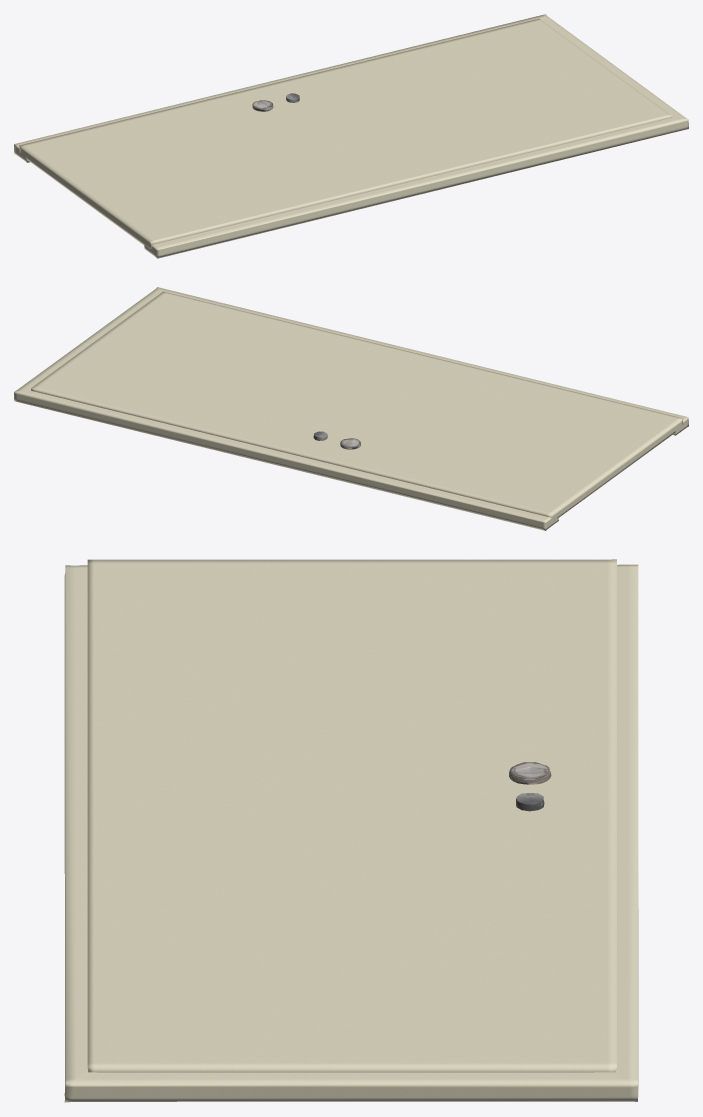
File: SM_095_Door1.fbx
3 renders of one model, top to bottom at view 1: azimuth 30°, elevation 25°; view 2: azimuth 150°, elevation 25°; view 3: azimuth 270°, elevation 25°, orthographic. The views are drawn at different scales.
Visible parts, largest first — view 1: SM_095_Door1; view 2: SM_095_Door1; view 3: SM_095_Door1.
Part boxes in pixels (x1,y1,x2,y2): SM_095_Door1: (14,14,688,258); SM_095_Door1: (14,287,688,530); SM_095_Door1: (64,559,638,1102).
Size of the model in its own units: 214 by 99.94 by 6.13.
1 material, 1 textured.
